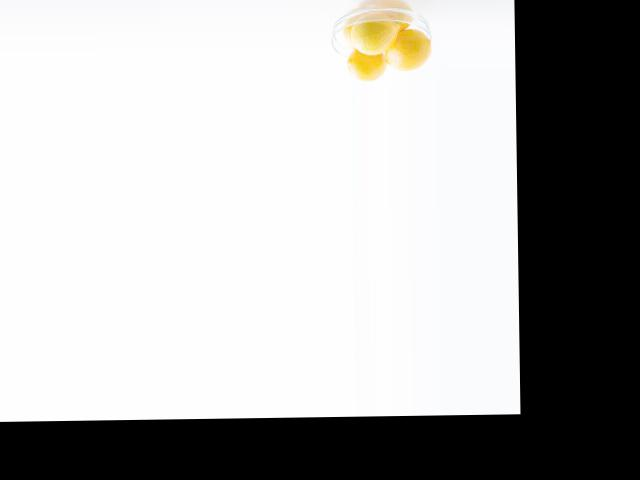lemon: (382, 35, 434, 71)
